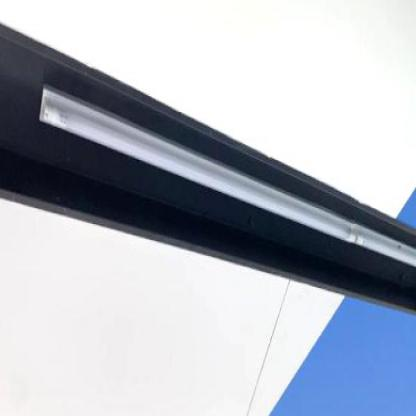light_off: (32, 54, 415, 332)
